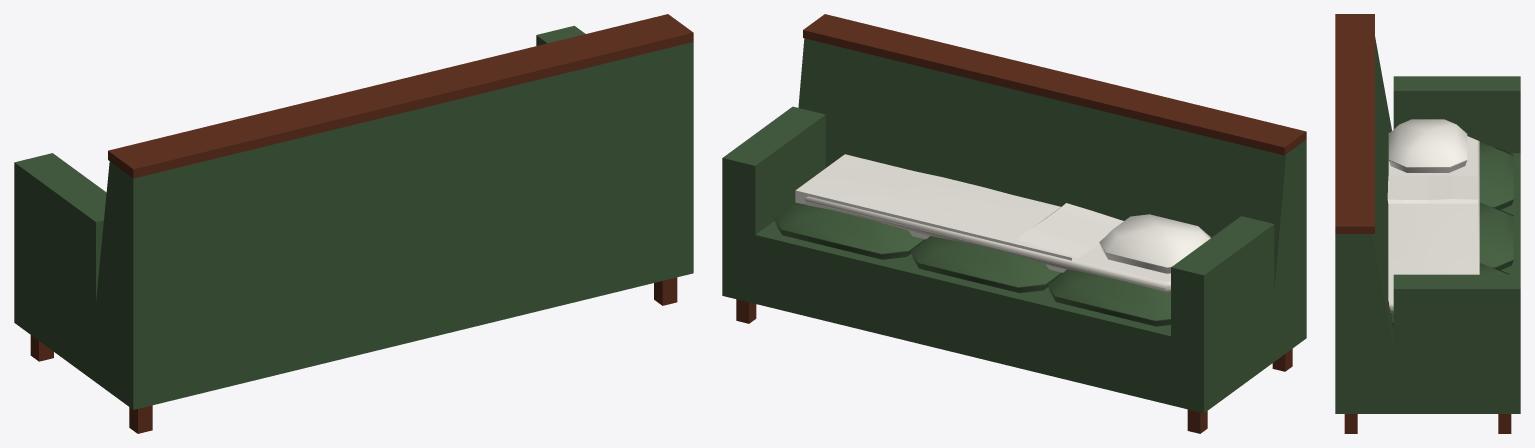
3 renders of one model, left to right at view 1: azimuth 30°, elevation 25°; view 2: azimuth 150°, elevation 25°; view 3: azimuth 270°, elevation 25°, orthographic. The views are drawn at different scales.
Visible parts, largest first — view 1: parametric-variant-sofa-1st-93a6d4918c45728020a1; view 2: parametric-variant-sofa-1st-93a6d4918c45728020a1; view 3: parametric-variant-sofa-1st-93a6d4918c45728020a1.
Boxes of the visible parts, <box> form: parametric-variant-sofa-1st-93a6d4918c45728020a1: <box>14,14,693,433</box>; parametric-variant-sofa-1st-93a6d4918c45728020a1: <box>722,14,1306,433</box>; parametric-variant-sofa-1st-93a6d4918c45728020a1: <box>1335,14,1520,433</box>.
Bounding box in the file's own units: 1.9 × 0.88 × 0.7.
